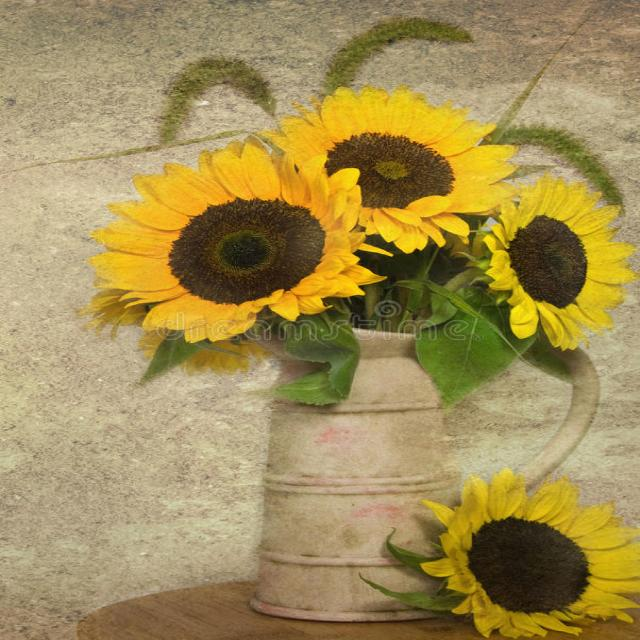sunflower: (69, 145, 378, 364), (269, 74, 533, 258), (378, 463, 640, 640), (472, 160, 640, 346)
